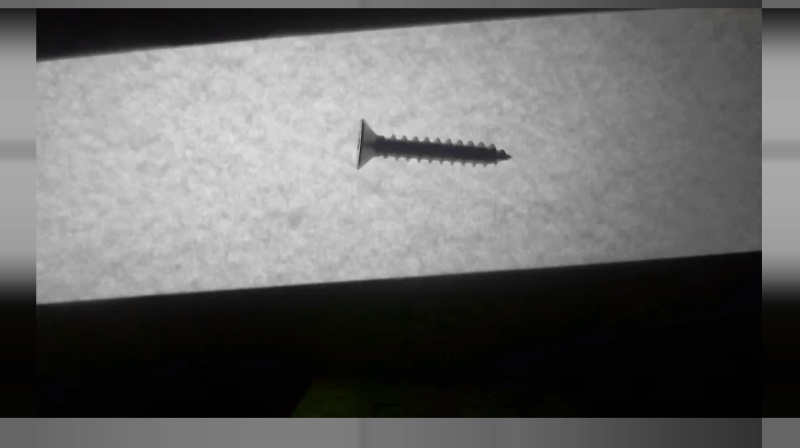S001: (353, 118, 514, 176)
